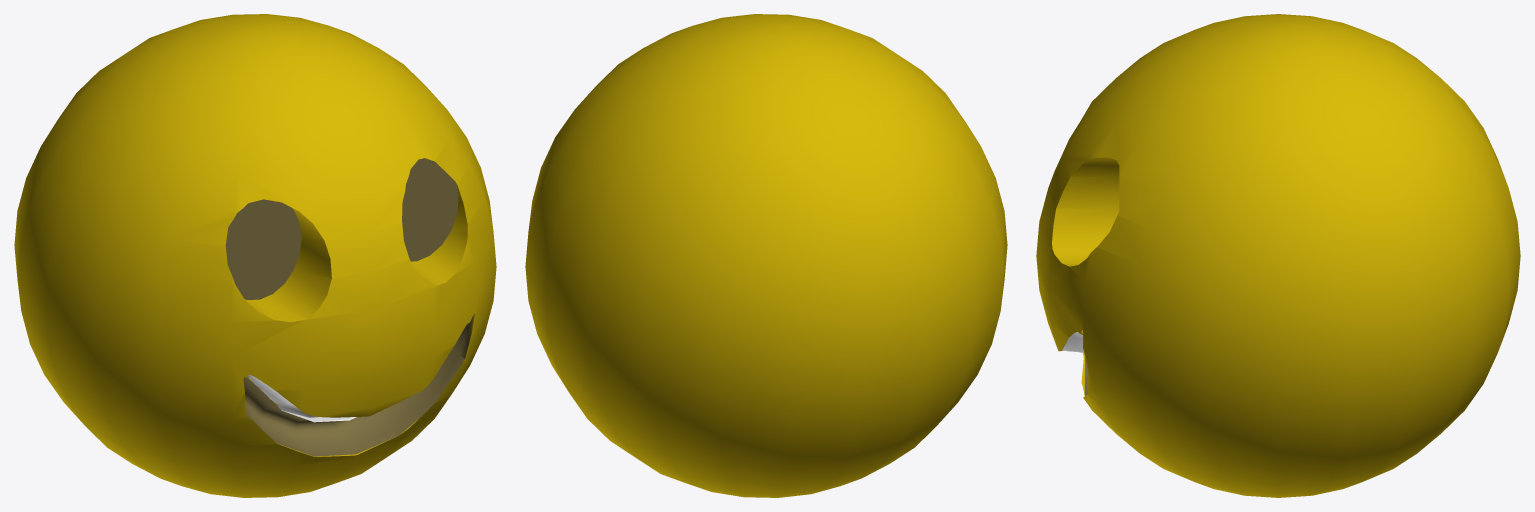
Rendered from Emoji_Smile.fbx.
The picture shows the model from 3 angles, left to right: view 1: azimuth 30°, elevation 25°; view 2: azimuth 150°, elevation 25°; view 3: azimuth 270°, elevation 25°; orthographic projection.
Visible parts, largest first — view 1: pSphere7; view 2: pSphere7; view 3: pSphere7.
Boxes of the visible parts, x1,y1,x2,y2 form: pSphere7: (14,14,496,497); pSphere7: (525,14,1007,497); pSphere7: (1036,14,1520,497).
Bounding box in the file's own units: 8.32 × 8.32 × 8.32.
